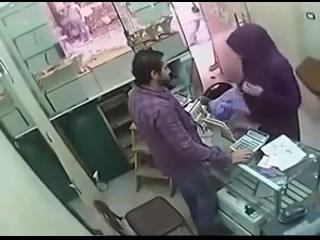Normal: (127, 49, 254, 234), (226, 20, 302, 142), (94, 196, 196, 236), (230, 128, 270, 153)
